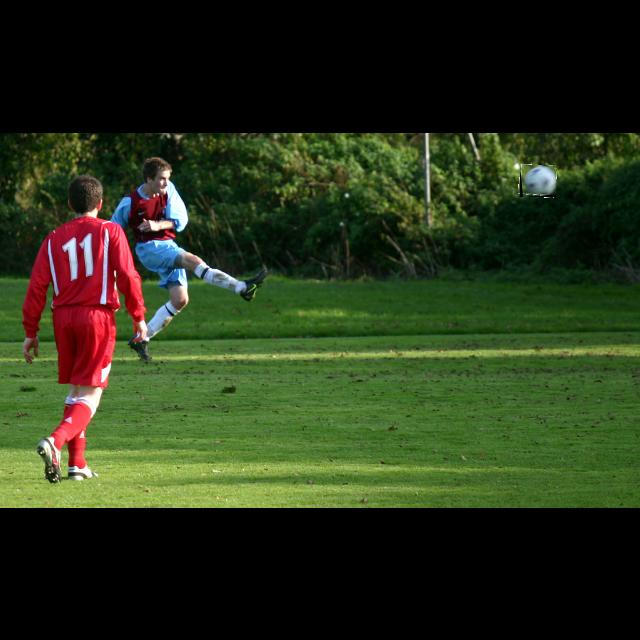Football: (520, 165, 556, 197)
